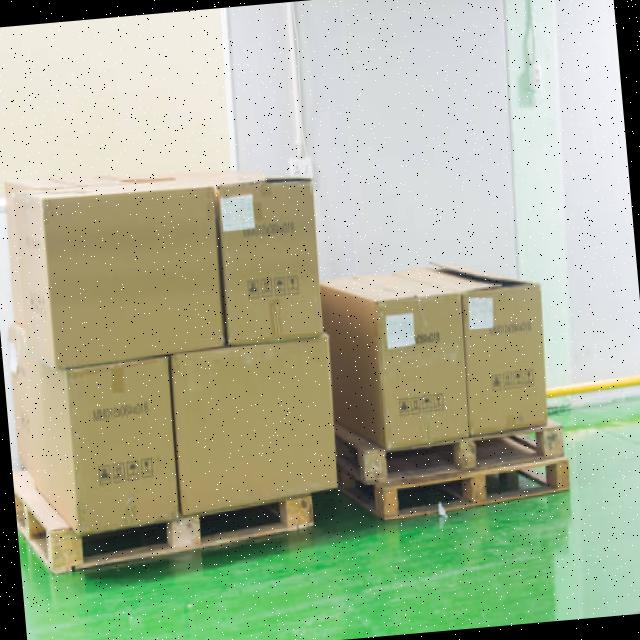Wooden-Pallets: (38, 489, 333, 578), (358, 416, 570, 484), (376, 459, 576, 522)
